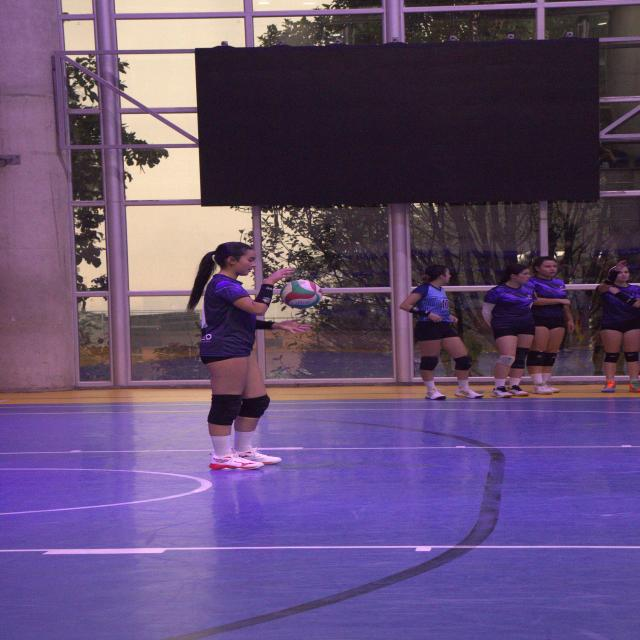volleyball: (285, 277, 322, 308)
